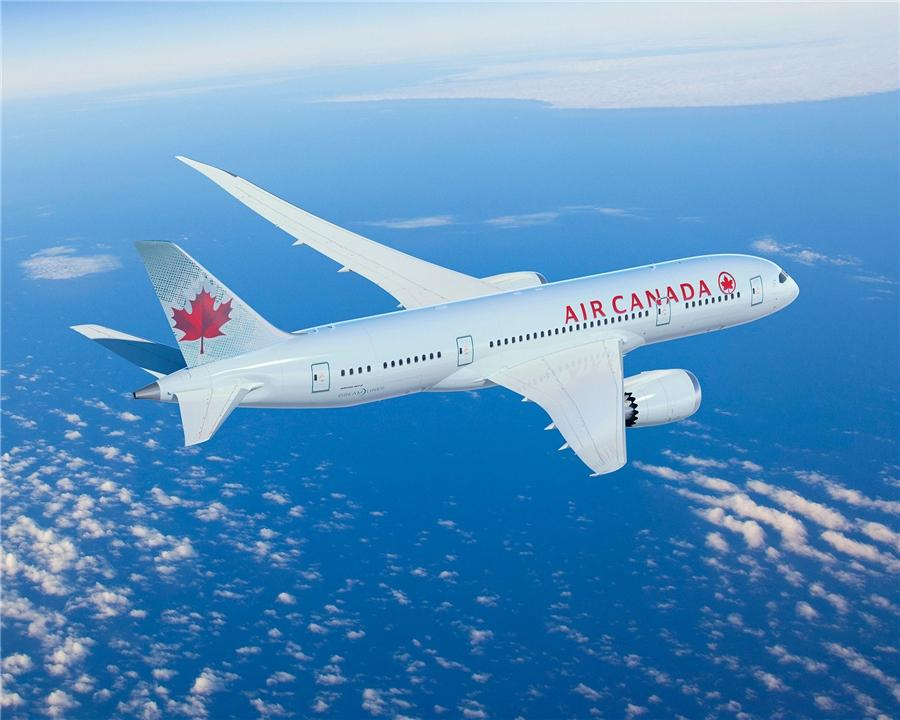airplane: (60, 152, 802, 458)
